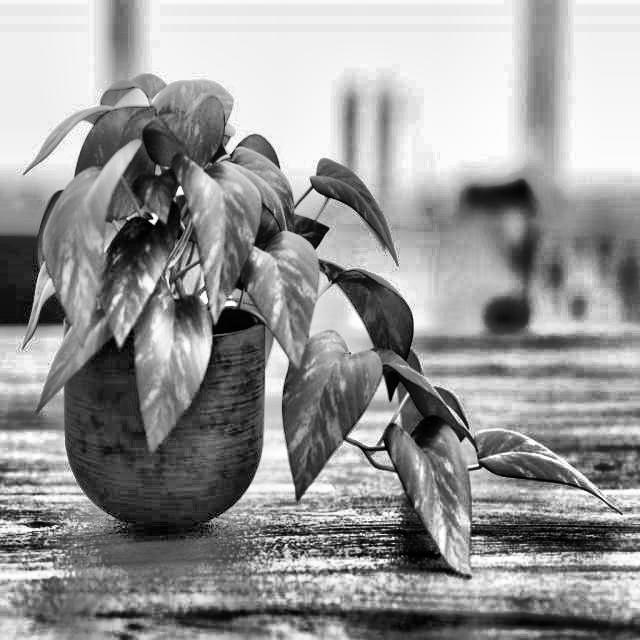plants: (42, 61, 594, 574)
